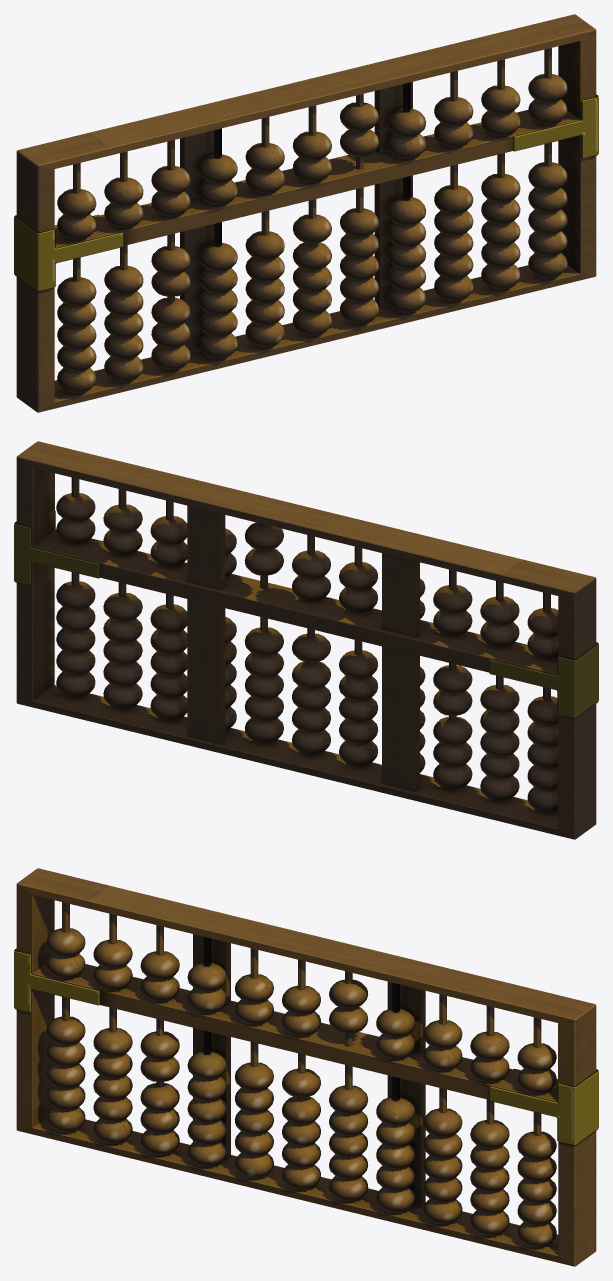
The picture shows the model from 3 angles, top to bottom: view 1: azimuth 30°, elevation 25°; view 2: azimuth 150°, elevation 25°; view 3: azimuth 330°, elevation 25°; orthographic projection.
Visible parts, largest first — view 1: Plane; view 2: Plane; view 3: Plane.
Boxes of the visible parts, x1,y1,x2,y2 form: Plane: (14,14,598,412); Plane: (14,441,598,839); Plane: (14,868,598,1266).
Size of the model in its own units: 424 by 179 by 36.05.
Materials: 1 (1 with a texture image).
